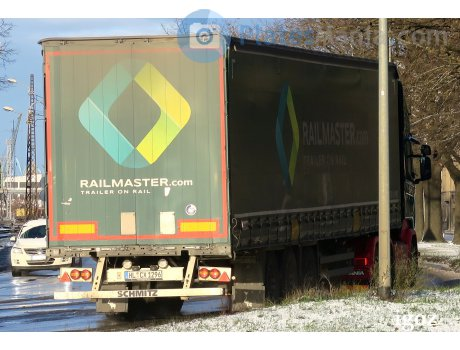License Plates: (124, 268, 167, 280)
